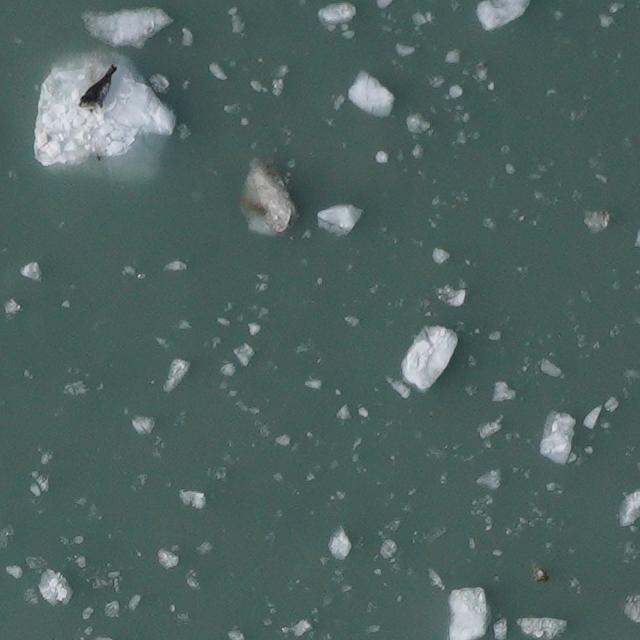seal: (75, 58, 128, 120)
